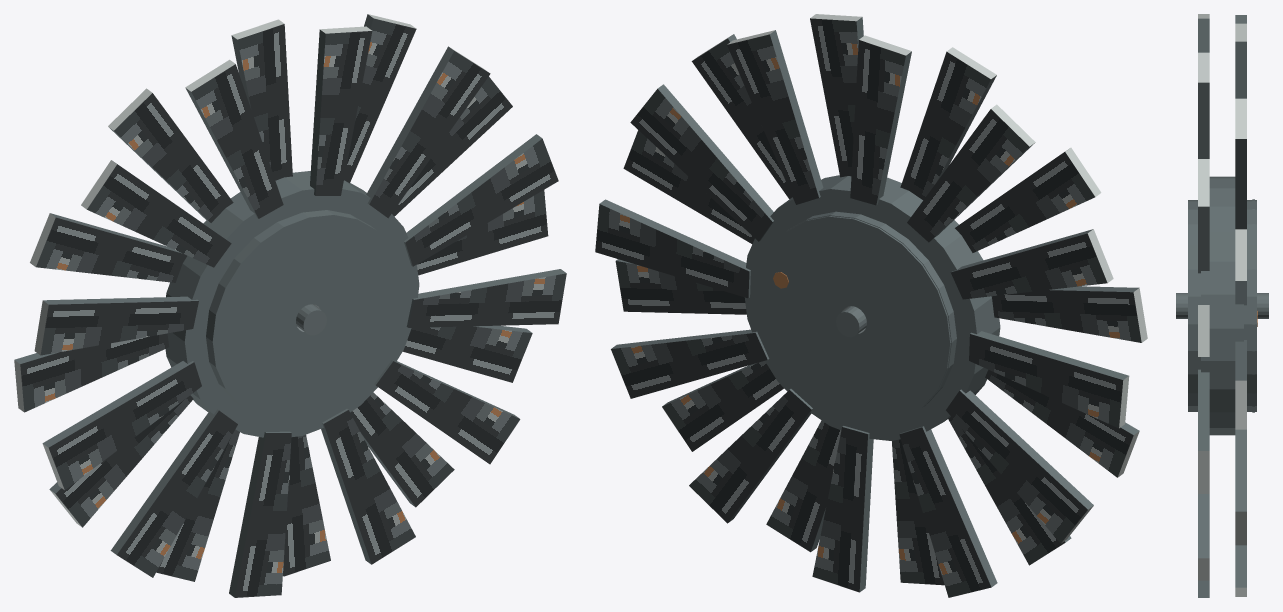
The model's file is rotor_blades_d7.obj.
3 views of the same model, side by side, from view 1: azimuth 30°, elevation 25°; view 2: azimuth 150°, elevation 25°; view 3: azimuth 270°, elevation 25° (orthographic). The views are drawn at different scales.
Parts seen in each view (by area): view 1: stepped_hub, blade_row1_n06, blade_row1_n01, blade_row1_n07, blade_row1_n02, blade_row1_n00, blade_row1_n08, blade_row1_n05, blade_row1_n11, blade_row1_n03, blade_row1_n09, blade_row0_n05 (+14 smaller); view 2: stepped_hub, blade_row0_n07, blade_row0_n02, blade_row0_n01, blade_row0_n08, blade_row0_n06, blade_row0_n00, blade_row0_n03, blade_row0_n09, blade_row0_n05, blade_row0_n11, blade_row1_n03 (+15 smaller); view 3: stepped_hub, blade_row0_n02, blade_row1_n11, blade_row0_n11, blade_row1_n01, blade_row1_n02, blade_row0_n00, blade_row1_n10, blade_row0_n01, blade_row0_n03, hub_lock_ring, rotor_shaft (+4 smaller).
Boxes of the visible parts, x1,y1,x2,y2 form: stepped_hub: [165, 171, 419, 437]; blade_row1_n06: [42, 361, 201, 490]; blade_row1_n01: [366, 46, 490, 218]; blade_row1_n07: [110, 409, 237, 577]; blade_row1_n02: [310, 26, 372, 195]; blade_row1_n00: [403, 134, 558, 266]; blade_row1_n08: [229, 431, 291, 597]; blade_row1_n05: [34, 296, 198, 355]; blade_row1_n11: [406, 269, 566, 327]; blade_row1_n03: [185, 59, 283, 218]; blade_row1_n09: [321, 409, 415, 564]; blade_row0_n05: [30, 213, 186, 282]; stepped_hub: [744, 175, 1000, 440]; blade_row0_n07: [946, 389, 1093, 543]; blade_row0_n02: [727, 30, 823, 204]; blade_row0_n01: [630, 84, 773, 241]; blade_row0_n08: [899, 426, 997, 597]; blade_row0_n06: [969, 331, 1129, 428]; blade_row0_n00: [595, 199, 750, 298]; blade_row0_n03: [850, 35, 911, 205]; blade_row0_n09: [812, 426, 873, 592]; blade_row0_n05: [950, 229, 1113, 299]; blade_row0_n11: [611, 329, 769, 398]; blade_row1_n03: [900, 47, 996, 200]; stepped_hub: [1188, 176, 1256, 435]; blade_row0_n02: [1235, 98, 1246, 229]; blade_row1_n11: [1198, 369, 1209, 493]; blade_row0_n11: [1235, 429, 1246, 545]; blade_row1_n01: [1198, 159, 1209, 273]; blade_row1_n02: [1198, 52, 1209, 158]; blade_row0_n00: [1235, 340, 1246, 429]; blade_row1_n10: [1198, 494, 1209, 580]; blade_row0_n01: [1235, 229, 1246, 305]; blade_row0_n03: [1235, 23, 1246, 98]; hub_lock_ring: [1252, 199, 1254, 412]; rotor_shaft: [1176, 293, 1268, 318].
Size of the model in its own units: 6.28 by 6.28 by 1.
